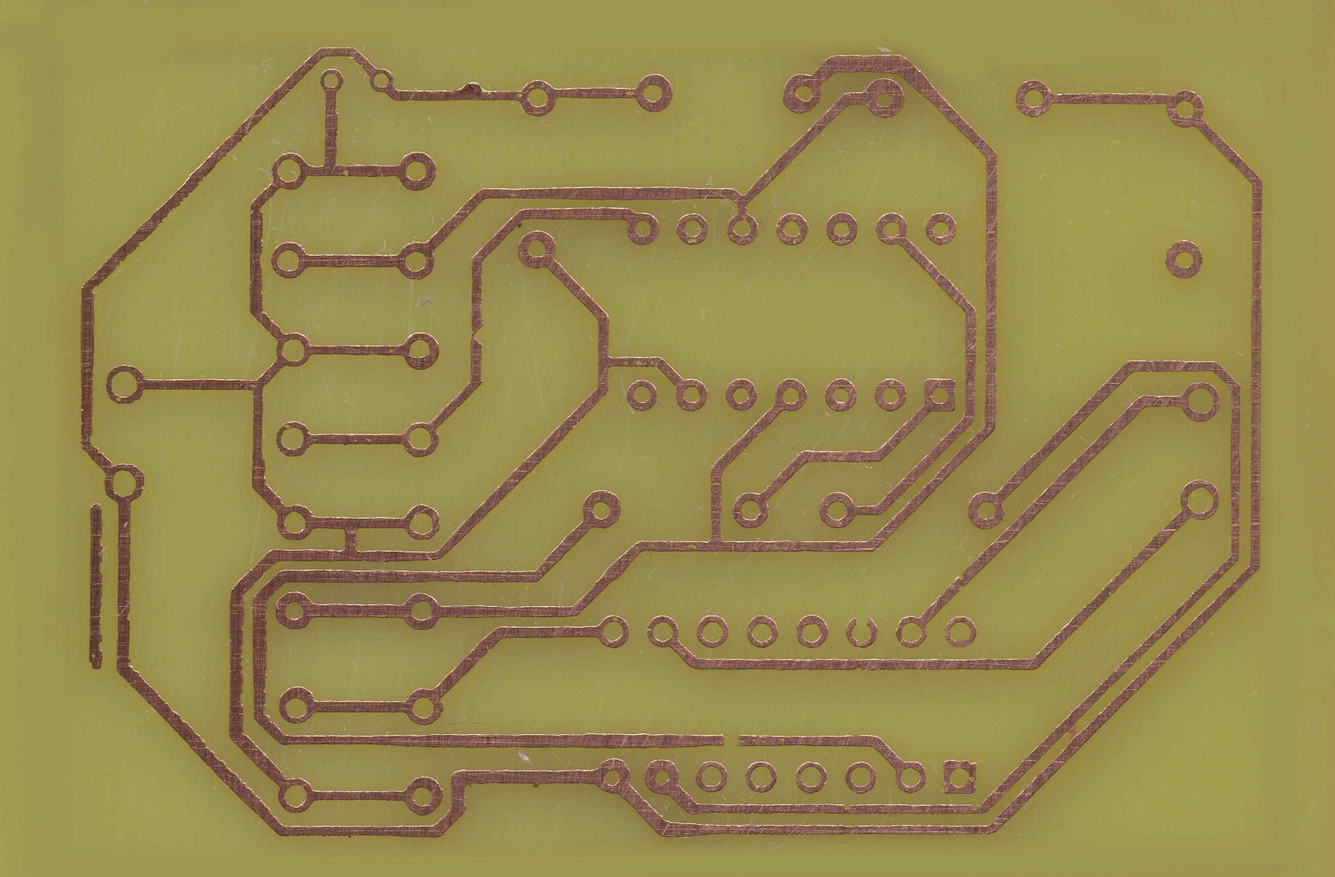missing_hole: (845, 616, 880, 651)
mouse_bite: (468, 317, 487, 349)
open_circuit: (711, 728, 747, 753)
short: (339, 511, 362, 566)
spur: (455, 77, 489, 104)
spurious_copper: (83, 499, 106, 675)
